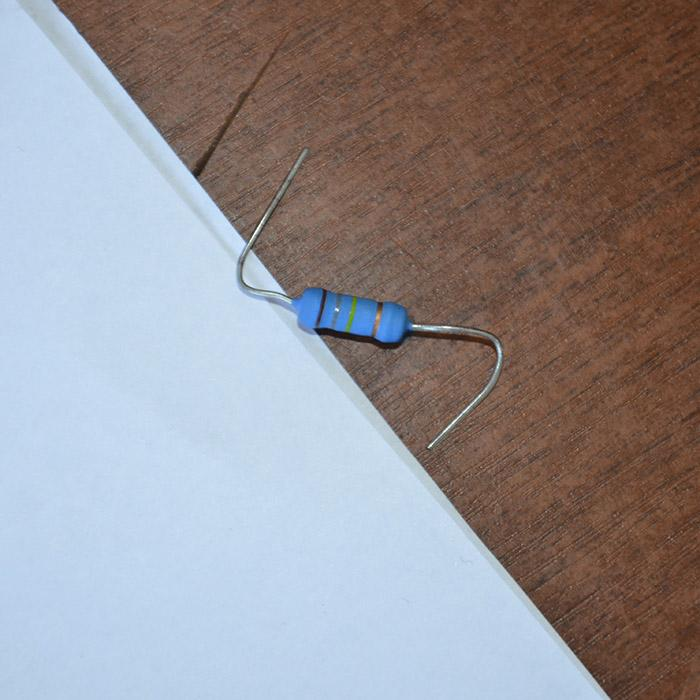resistor: (292, 285, 409, 342)
